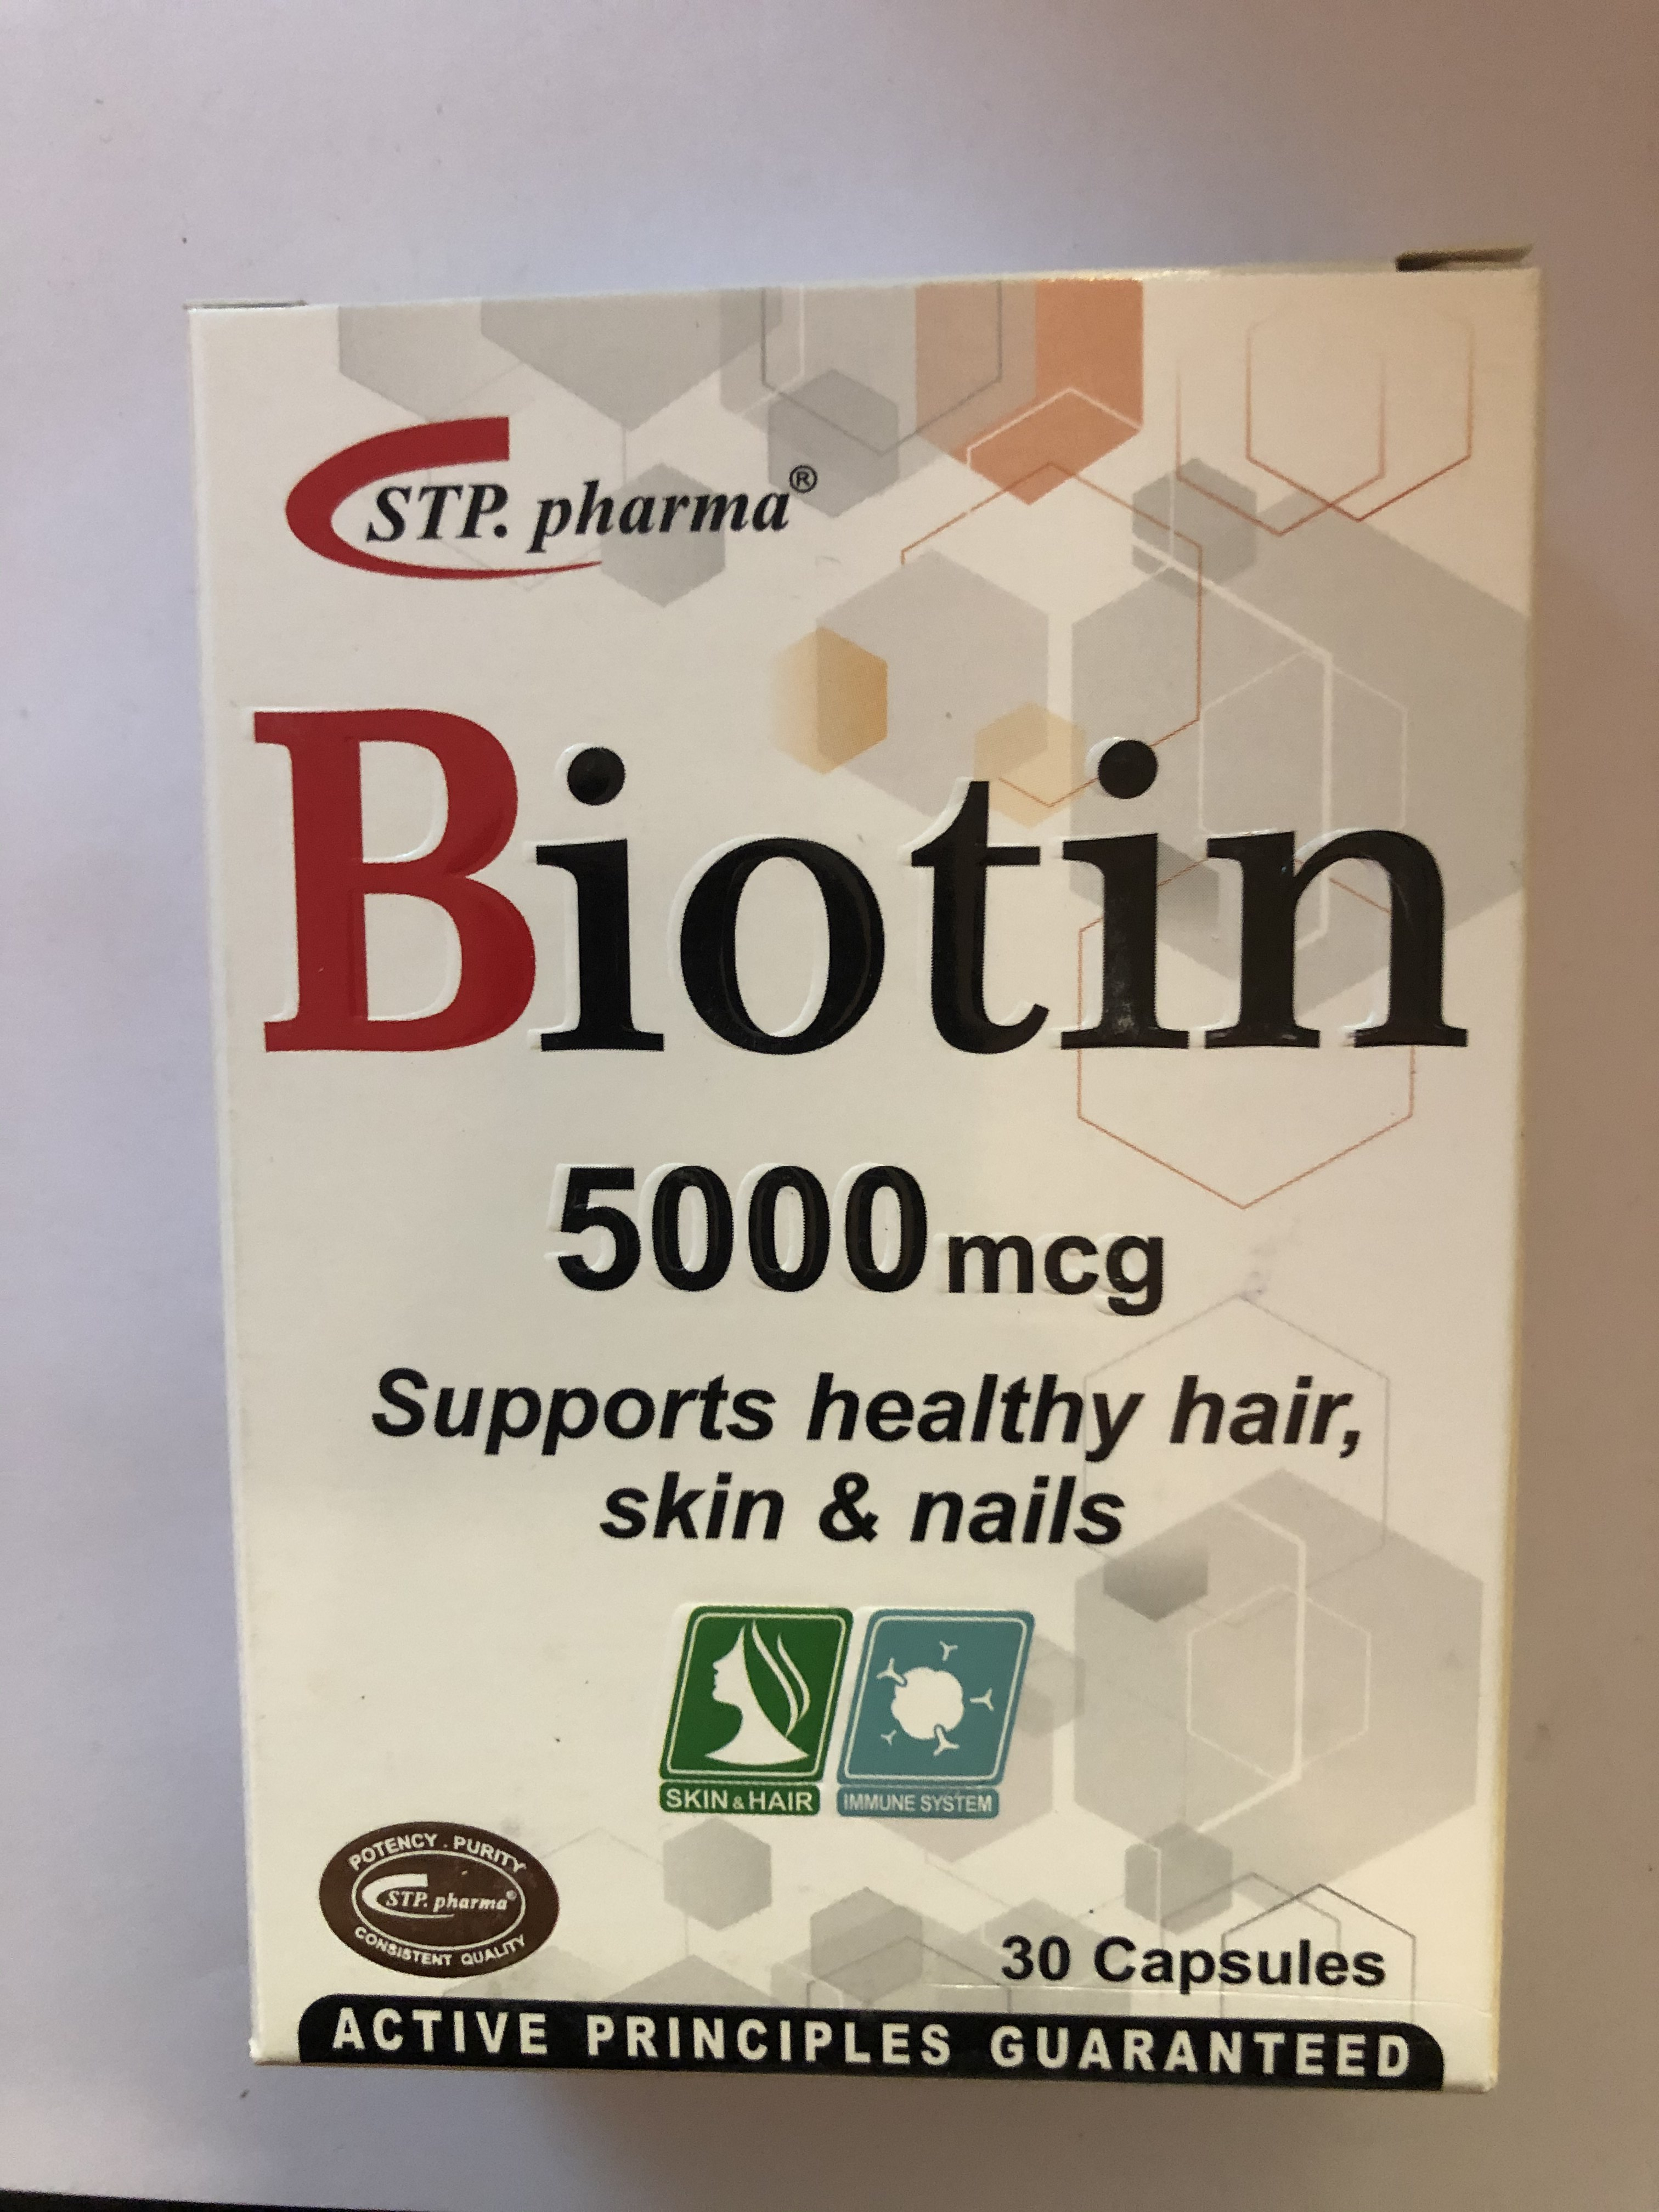Medicine name: (213, 665, 1481, 1132)
